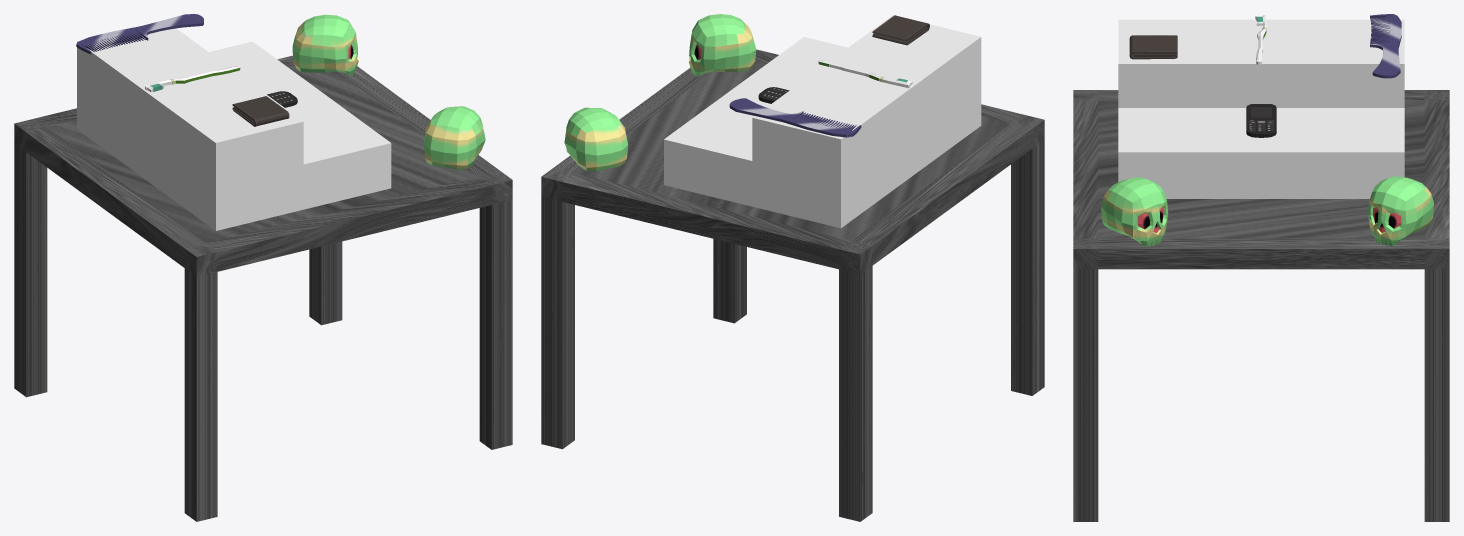
Rendered from shrine_table.glb.
The picture shows the model from 3 angles, left to right: view 1: azimuth 30°, elevation 25°; view 2: azimuth 150°, elevation 25°; view 3: azimuth 270°, elevation 25°; orthographic projection. The views are drawn at different scales.
Parts seen in each view (by area): view 1: Tier Box.006; view 2: Tier Box.006; view 3: Tier Box.006.
Boxes of the visible parts, box(x1,y1,x2,y2) form: Tier Box.006: box(14, 14, 512, 521); Tier Box.006: box(541, 14, 1044, 521); Tier Box.006: box(1073, 14, 1449, 521).
Bounding box in the file's own units: 0.0393 × 0.0428 × 0.0393.
7 materials, 6 textured.
